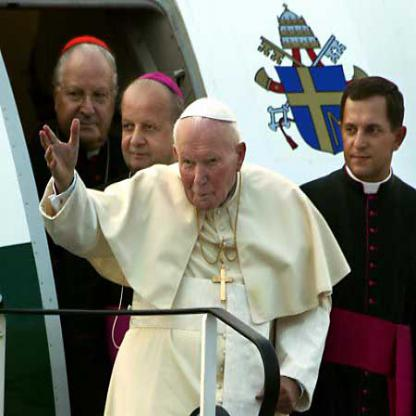face: (59, 42, 118, 147), (177, 111, 238, 212), (340, 80, 399, 178), (119, 77, 177, 175)
